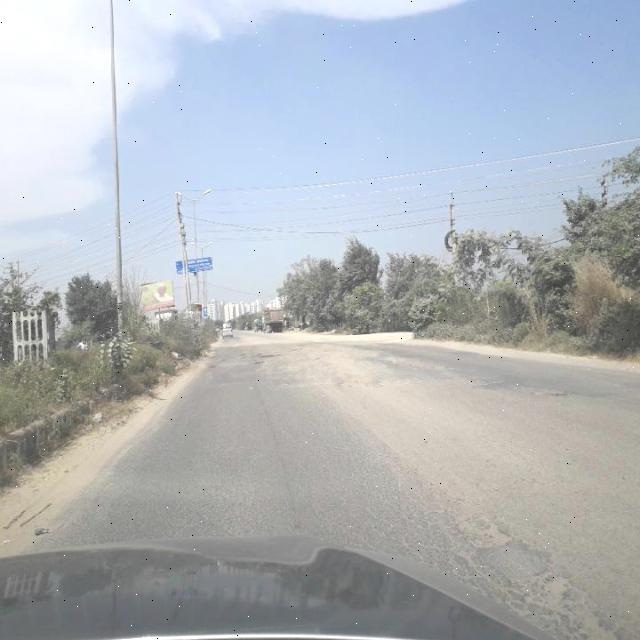D20: (78, 452, 640, 560)
D40: (247, 341, 415, 392), (516, 559, 620, 639), (455, 512, 522, 551)
